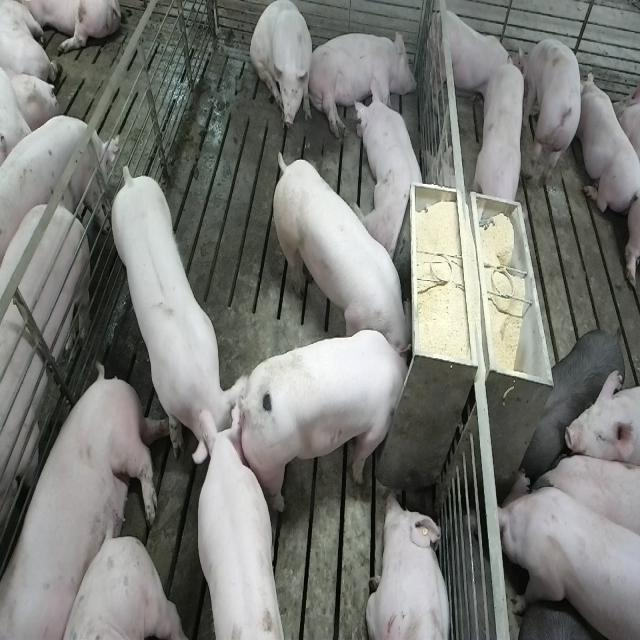Feeding: (245, 329, 419, 513), (268, 142, 411, 358)
Lateral_lying: (308, 28, 417, 140)
Sitting: (467, 53, 523, 235), (250, 2, 314, 137)
Standing: (110, 155, 248, 463), (0, 195, 92, 640), (497, 476, 638, 640), (193, 425, 287, 640), (0, 108, 116, 256), (526, 325, 627, 463), (537, 450, 637, 546), (520, 35, 584, 172)
Sternal_lying: (365, 490, 453, 640), (358, 80, 429, 259), (575, 68, 640, 214)
